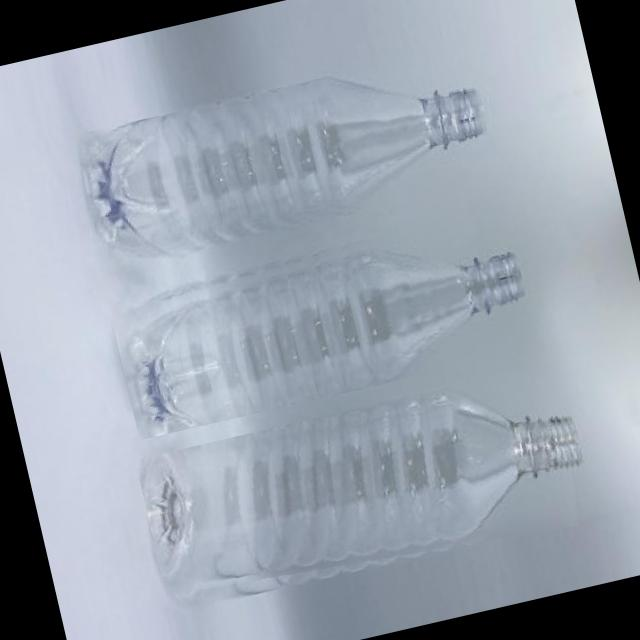plastic bottle: (133, 362, 594, 620), (104, 200, 538, 440), (72, 44, 498, 268)
